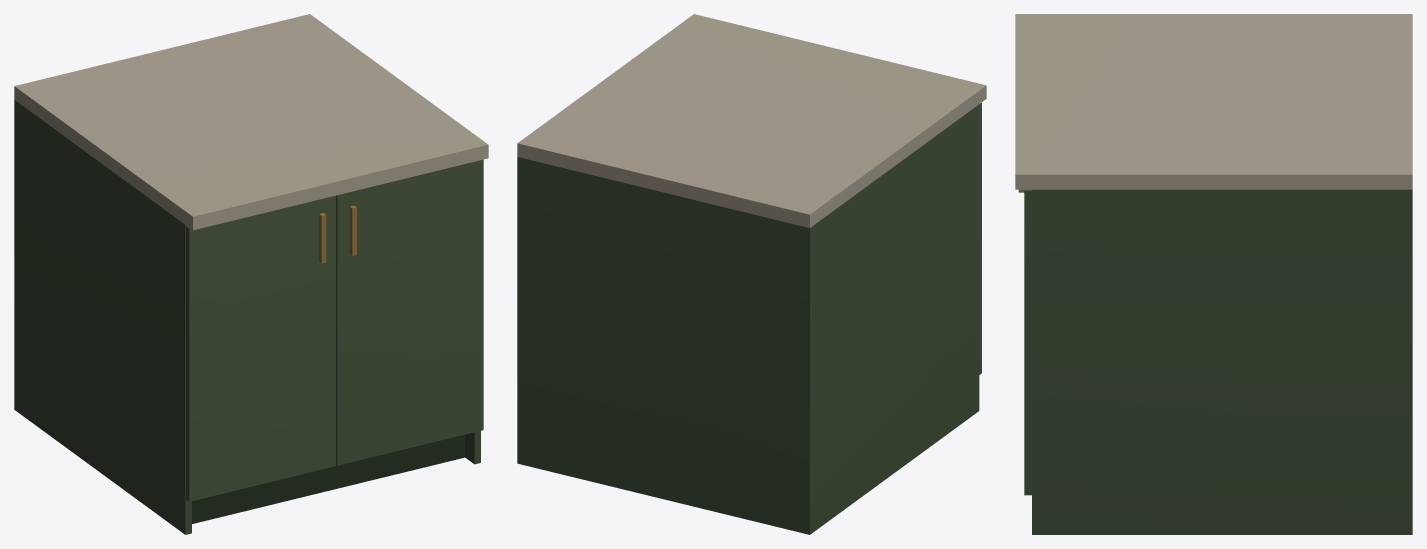
The model's file is cabinet.kitchen.green.glb.
3 renders of one model, left to right at view 1: azimuth 30°, elevation 25°; view 2: azimuth 150°, elevation 25°; view 3: azimuth 270°, elevation 25°, orthographic. The views are drawn at different scales.
Parts seen in each view (by area): view 1: cabinet_kitchen_green; view 2: cabinet_kitchen_green; view 3: cabinet_kitchen_green.
Part boxes in pixels (left/top/right/bottom): cabinet_kitchen_green: left=14, top=14, right=488, bottom=534; cabinet_kitchen_green: left=517, top=14, right=986, bottom=534; cabinet_kitchen_green: left=1015, top=14, right=1412, bottom=534.
Size of what is drawn, in the model's own units: 0.908 by 0.95 by 0.95.
